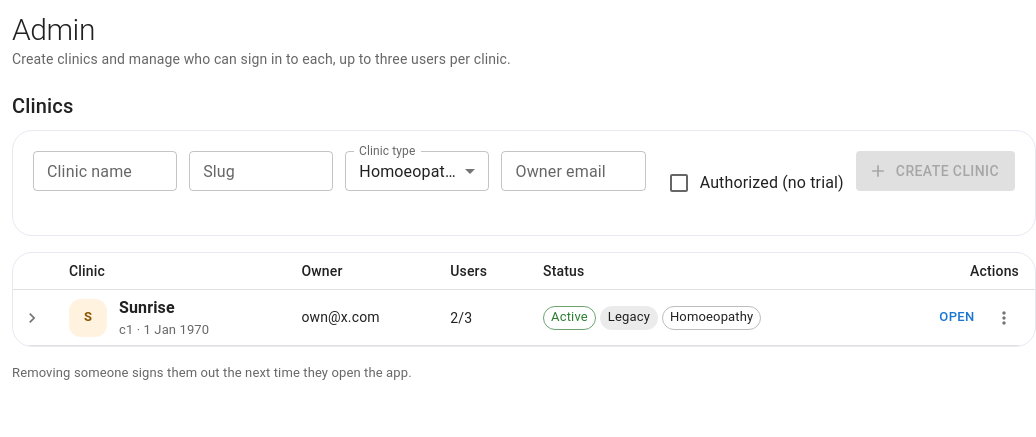
creating a clinic with an owner already in another clinic is blocked
The width and height of the screenshot is (1036, 437).
Type "Moon Clinic" into the field labelled "Clinic name" at [105, 171], box [33,151,177,191]
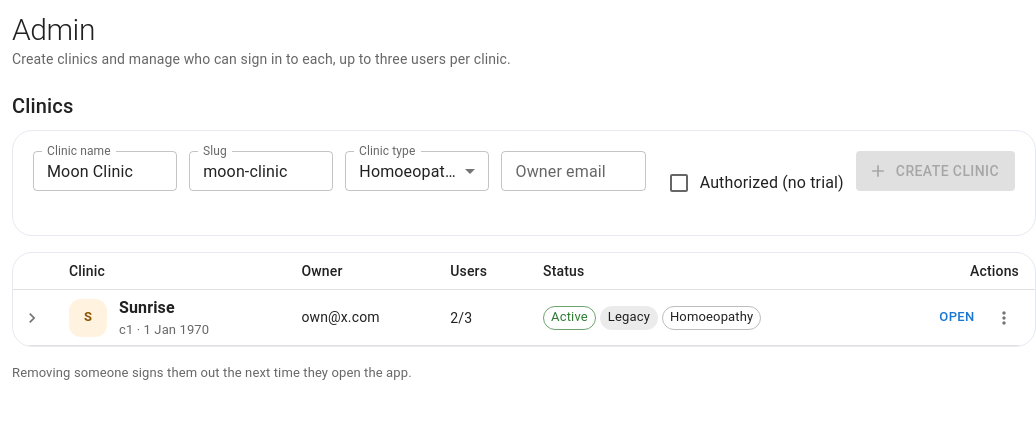
Type "own@x.com" into the field labelled "Owner email" at [574, 171], box [502,151,646,191]
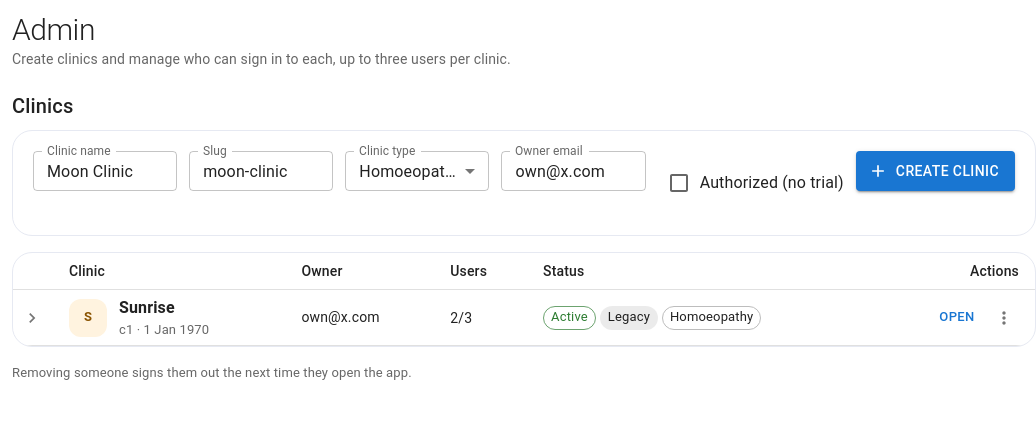
Click the button "Create clinic" at [935, 171], box [856,151,1015,191]
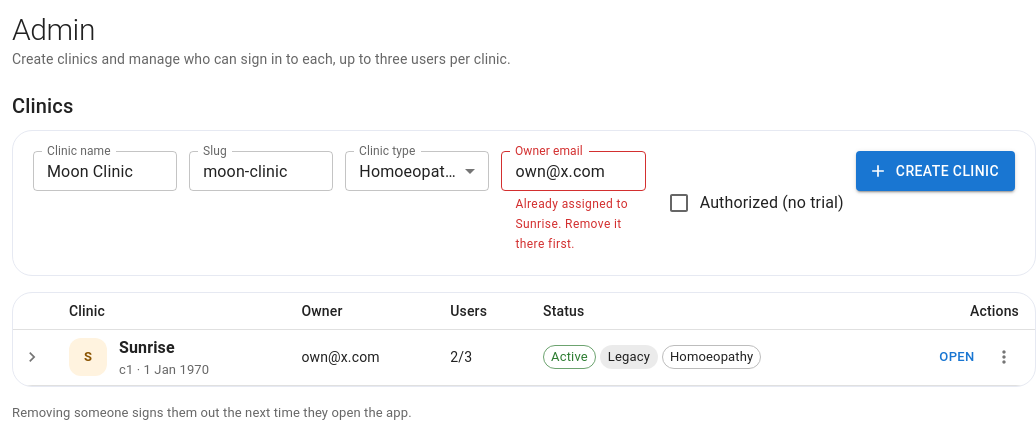
Now the text "Already assigned to Sunrise. Remove it there first." is shown, box [516,195,632,255]
